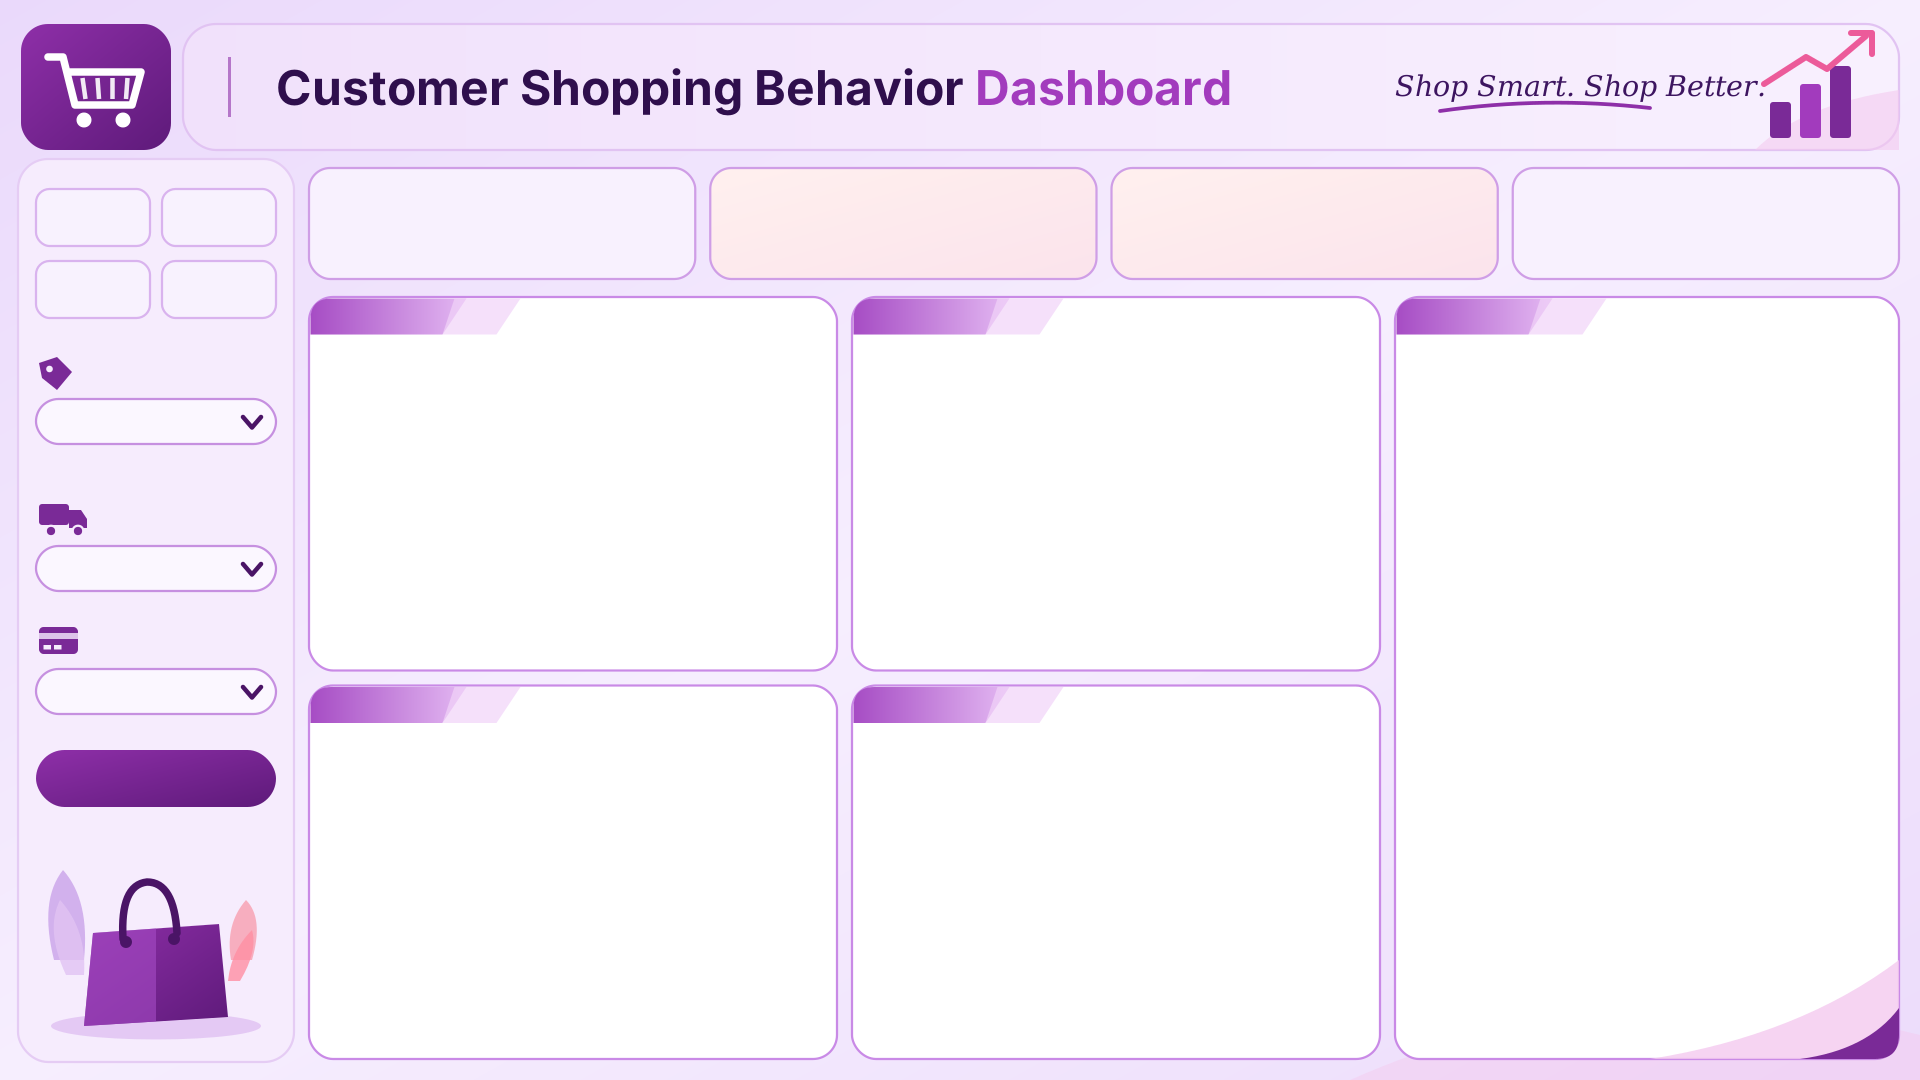

What the dashboard file says about the page in this screenshot:
{"tool":"powerbi","page":{"name":"Customer_Behavior_Analysis_Dashboard","canvas":[1920,1080],"ordinal":0},"visuals":[{"type":"cardVisual","fields":{"Data":["public customer.Total Customer"]},"box":[318.4,169.3,368.1,99.4],"z":0},{"type":"cardVisual","fields":{"Data":["public customer.Total Revenue"]},"box":[721.3,168.9,370.5,100],"z":1},{"type":"cardVisual","fields":{"Data":["public customer.Avg Purchase Amount"]},"box":[1120.9,173,366.3,93.9],"z":2},{"type":"cardVisual","fields":{"Data":["public customer.Avg Review Rating"]},"box":[1518.4,169.3,371.8,97.5],"z":3},{"type":"donutChart","title":"Total Customer by subscribers status","fields":{"Category":["public customer.subscription_status"],"Y":["public customer.Total Customer"]},"box":[318,322,510,336],"z":4},{"type":"donutChart","title":"Revenue by gender","fields":{"Category":["public customer.gender"],"Y":["public customer.Total Revenue"]},"box":[858,322,514,336],"z":5},{"type":"barChart","title":"Revenue by age group","fields":{"Category":["public customer.age_group"],"Y":["public customer.Total Revenue"]},"box":[844,710,544,370],"z":6},{"type":"clusteredColumnChart","title":"Revenue by category","fields":{"Category":["public customer.category"],"Y":["public customer.Total Revenue"]},"box":[318,710,510,356],"z":7},{"type":"clusteredBarChart","fields":{"Category":["public customer.item_purchased"],"Y":["public customer.Total Revenue"]},"box":[1404,322,486,744],"z":8},{"type":"advancedSlicerVisual","fields":{"Values":["public customer.gender"]},"box":[33.1,266.9,252.1,40.5],"z":11},{"type":"slicer","fields":{"Values":["public customer.category"]},"box":[47.9,393.9,222.7,53.4],"z":12},{"type":"slicer","fields":{"Values":["public customer.shipping_type"]},"box":[47.1,540.7,223.3,50.6],"z":13},{"type":"slicer","fields":{"Values":["public customer.payment_method"]},"box":[47.1,662.8,223.3,47.1],"z":14},{"type":"textbox","box":[77.3,347.9,163.8,46],"z":15},{"type":"textbox","box":[73.6,495.1,209.8,46],"z":16},{"type":"textbox","box":[77.3,618.4,208,40.5],"z":17},{"type":"actionButton","box":[33.1,745.4,250.3,58.9],"z":18},{"type":"advancedSlicerVisual","fields":{"Values":["public customer.subscription_status"]},"box":[33.1,193.3,252.1,47.9],"z":19}]}

Visuals, with their boxes in screenshot pixels (x1, y1, x2, y2), scaled from the page's 1920x1080 canvas onto the 1920x1080 screenshot:
cardVisual - public customer.Total Customer: 318, 169, 686, 269
cardVisual - public customer.Total Revenue: 721, 169, 1092, 269
cardVisual - public customer.Avg Purchase Amount: 1121, 173, 1487, 267
cardVisual - public customer.Avg Review Rating: 1518, 169, 1890, 267
"Total Customer by subscribers status" donutChart: 318, 322, 828, 658
"Revenue by gender" donutChart: 858, 322, 1372, 658
"Revenue by age group" barChart: 844, 710, 1388, 1079
"Revenue by category" clusteredColumnChart: 318, 710, 828, 1066
clusteredBarChart - public customer.item_purchased x public customer.Total Revenue: 1404, 322, 1890, 1066
advancedSlicerVisual - public customer.gender: 33, 267, 285, 307
slicer - public customer.category: 48, 394, 271, 447
slicer - public customer.shipping_type: 47, 541, 270, 591
slicer - public customer.payment_method: 47, 663, 270, 710
textbox: 77, 348, 241, 394
textbox: 74, 495, 283, 541
textbox: 77, 618, 285, 659
actionButton: 33, 745, 283, 804
advancedSlicerVisual - public customer.subscription_status: 33, 193, 285, 241
